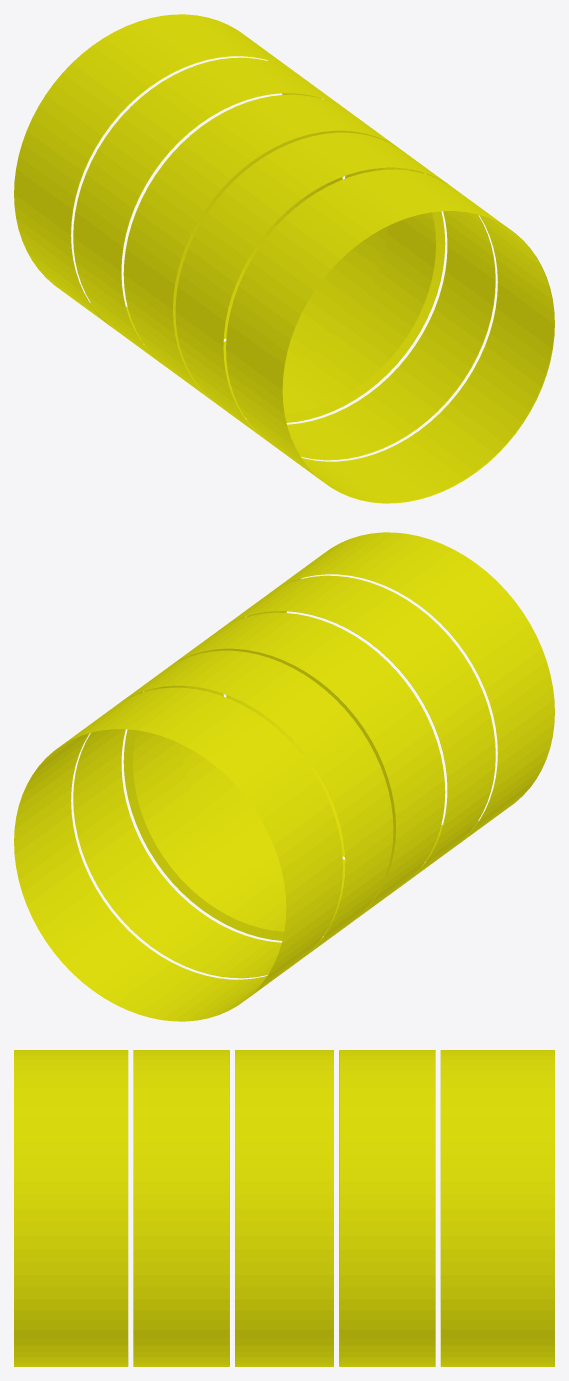
Rendered from HcalOuter3D_V1.glb.
3 renders of one model, top to bottom at view 1: azimuth 30°, elevation 25°; view 2: azimuth 150°, elevation 25°; view 3: azimuth 270°, elevation 25°, orthographic.
Parts seen in each view (by area): view 1: HcalOuter3D_V1; view 2: HcalOuter3D_V1; view 3: HcalOuter3D_V1.
Part boxes in pixels (x1,y1,x2,y2): HcalOuter3D_V1: (14, 14, 554, 503); HcalOuter3D_V1: (14, 532, 554, 1021); HcalOuter3D_V1: (14, 1050, 554, 1366).
Bounding box in the file's own units: 8.28 × 8.28 × 14.14.
